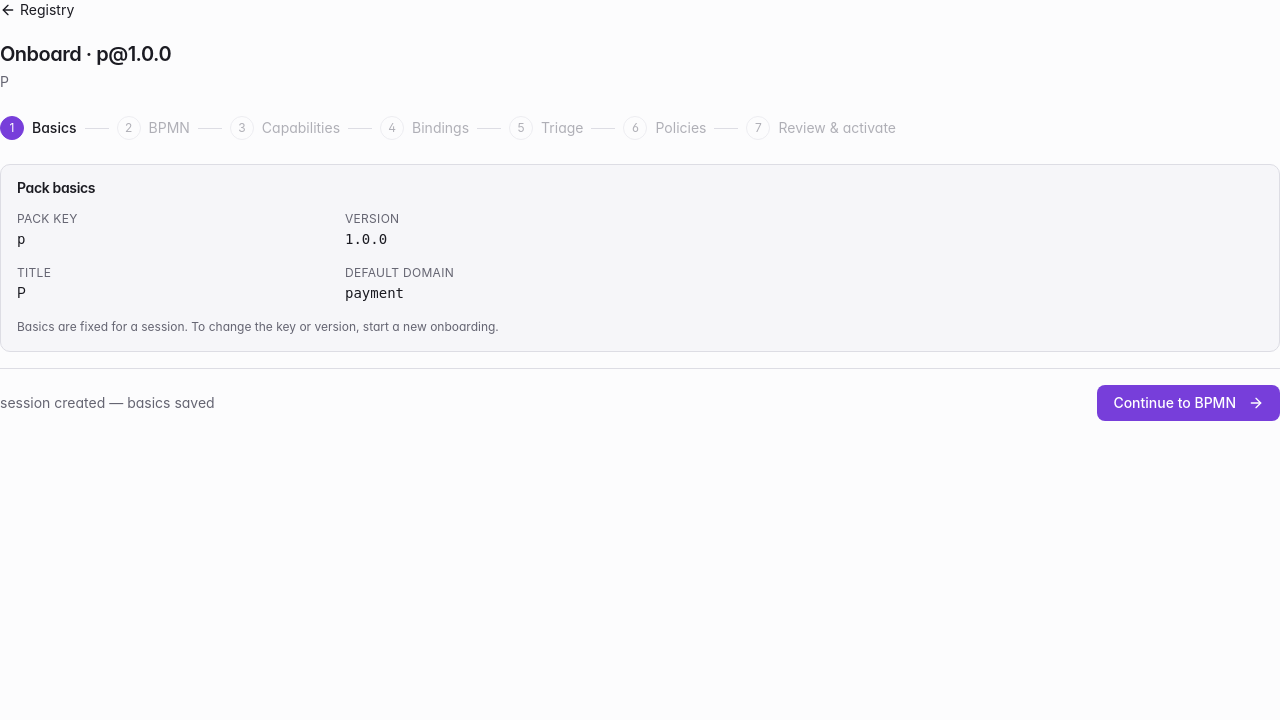
Scenario: Onboarding wizard › accepts full BPMN and shows a coverage report with documented elements (ADR-027)
Basics → BPMN, then paste + parse.
Step 1. Click the button "Continue to BPMN" → click(1189, 403), box [1097,385,1279,421]
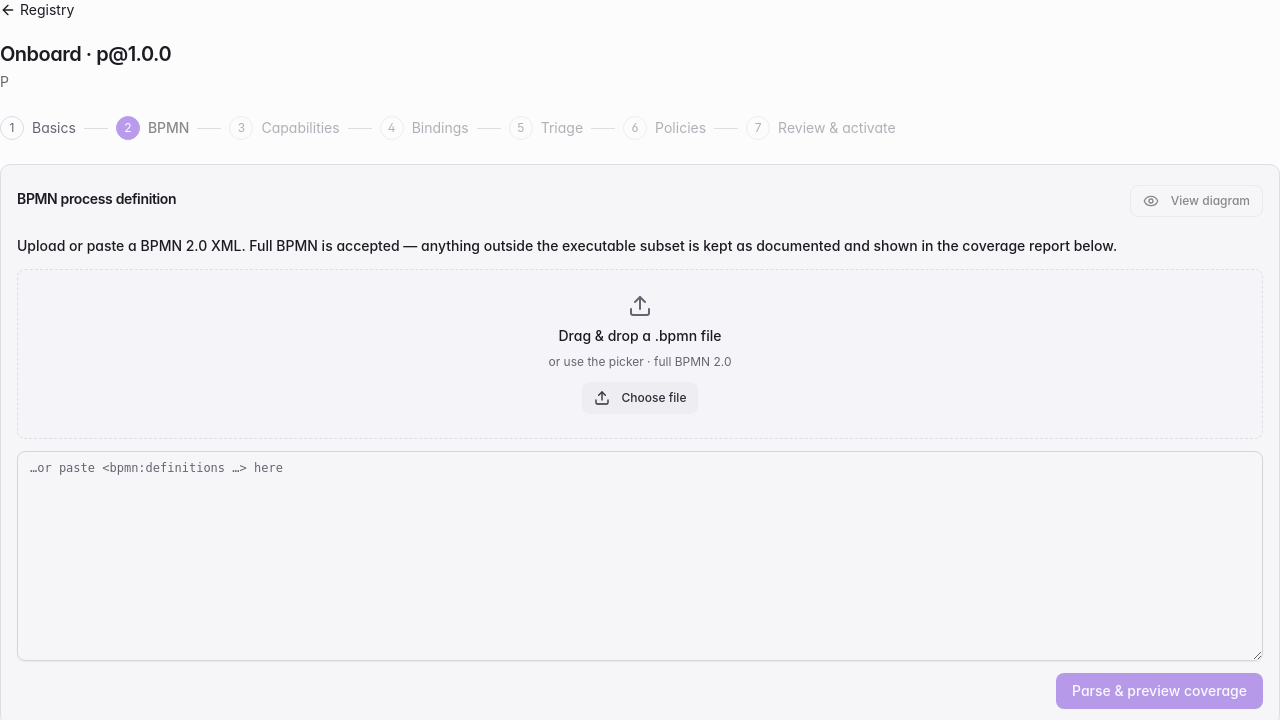
Step 2. Type "abc" into the text box with placeholder "…or paste <bpmn:definitions …> here" → (640, 556), box [17,451,1263,661]
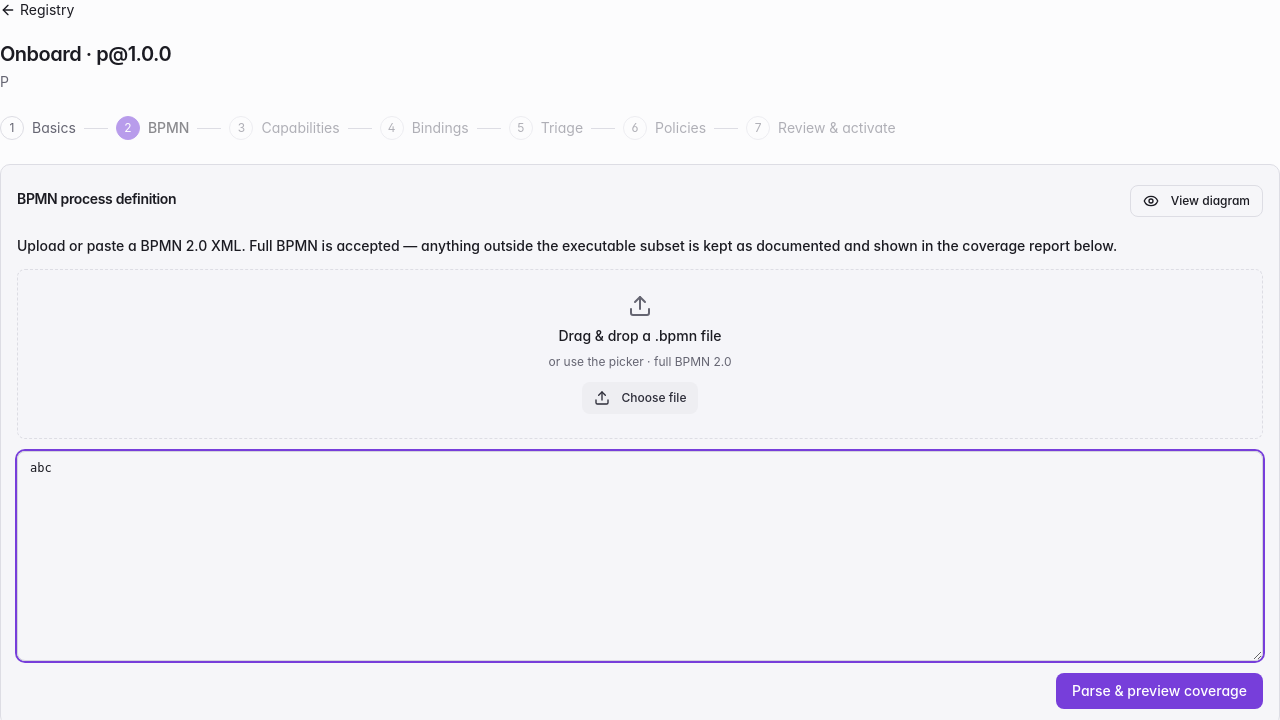
Step 3. Click the button "Parse & preview coverage" → click(1160, 691), box [1056,673,1263,709]
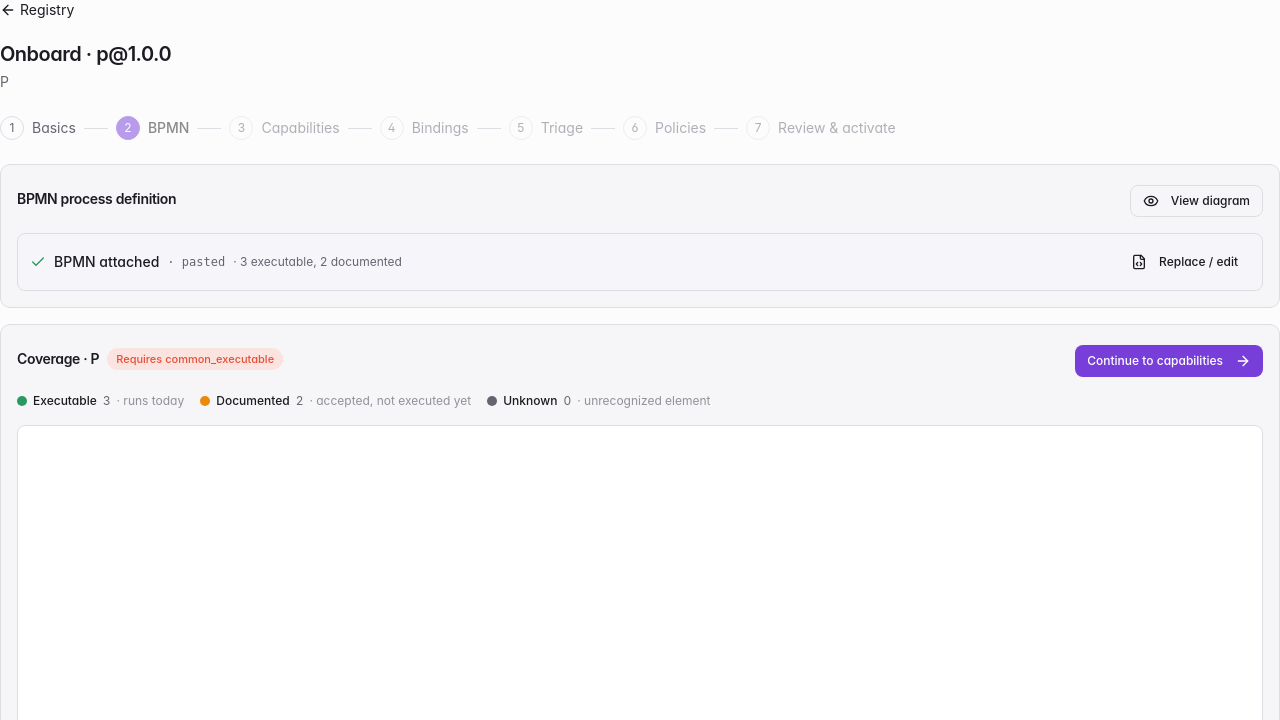
Now the heading "Coverage · P" is shown, box [17,352,99,366]
Now the text "Requires common_executable" is shown, box [107,348,283,370]
Now the text "BPMN attached" is shown, box [54,252,159,272]
Step 4. Click the button "Replace / edit" → click(1185, 262), box [1119,246,1250,278]
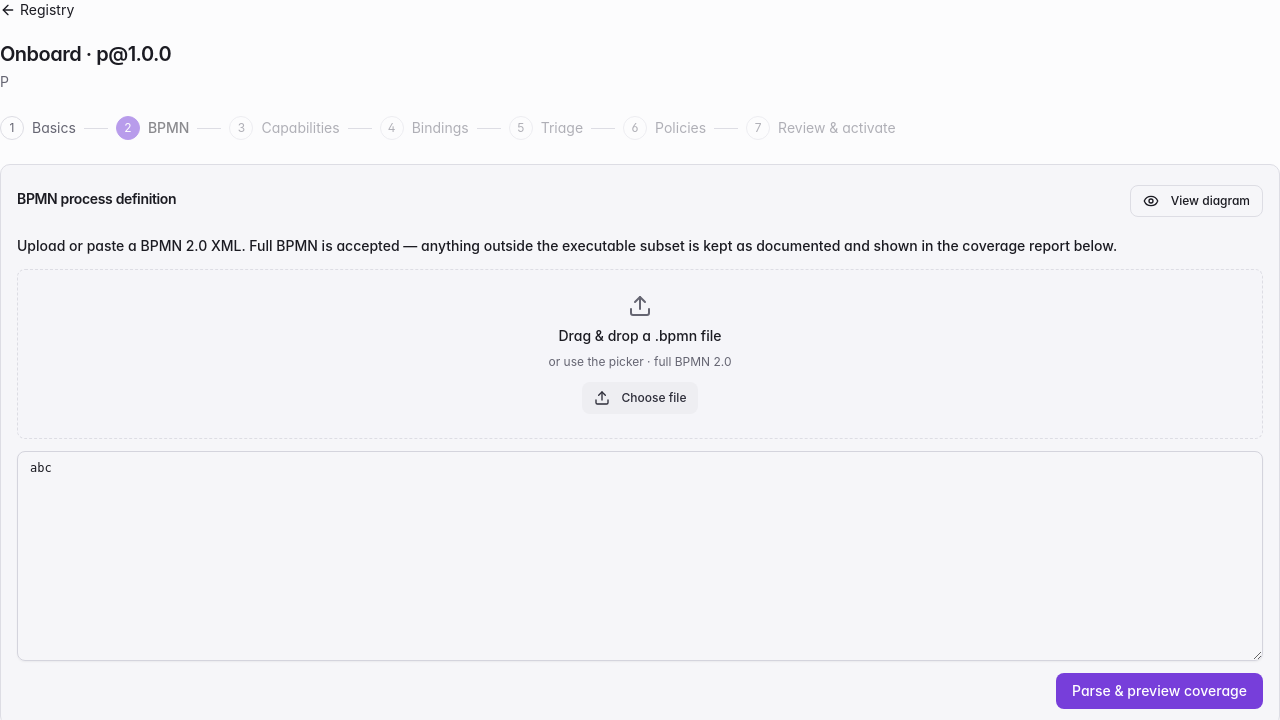
Now the text box with placeholder "…or paste <bpmn:definitions …> here" is shown, box [17,451,1263,661]
